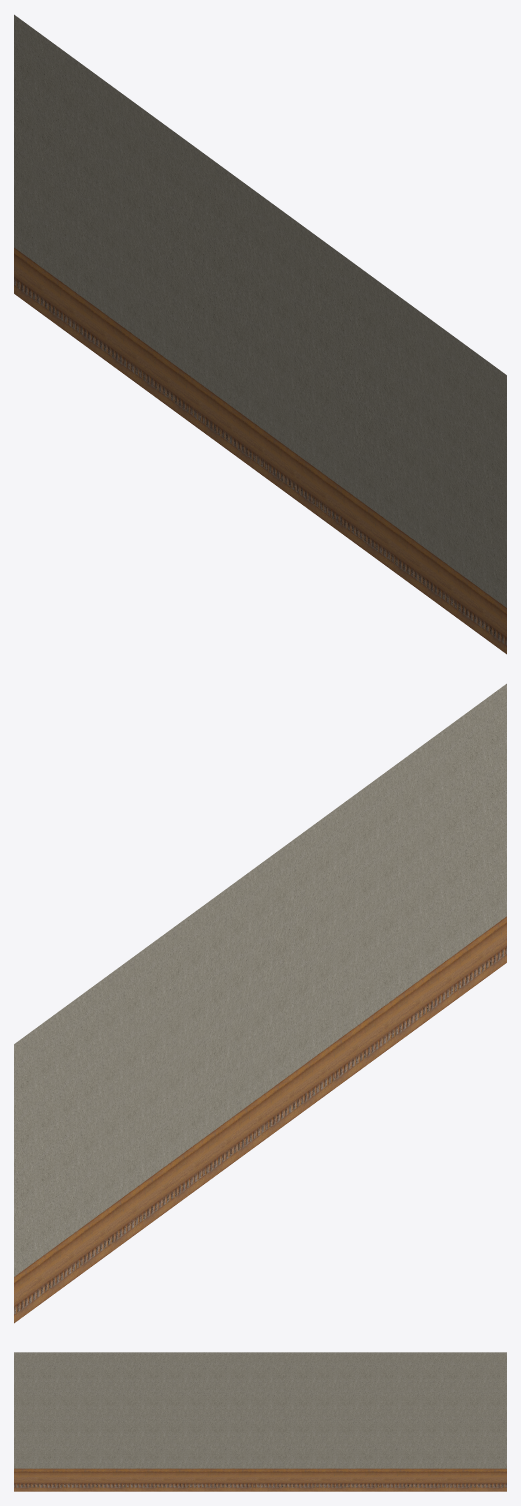
File: kabe_140119.dae
3 views of the same model, one above another, from view 1: azimuth 30°, elevation 25°; view 2: azimuth 150°, elevation 25°; view 3: azimuth 270°, elevation 25° (orthographic). The views are drawn at different scales.
Parts seen in each view (by area): view 1: wall_base; view 2: wall_base; view 3: wall_base.
Boxes of the visible parts, <box> form: wall_base: <box>14,14,506,654</box>; wall_base: <box>14,683,506,1323</box>; wall_base: <box>14,1352,506,1491</box>.
Bounding box in the file's own units: 0 × 50 × 160.
